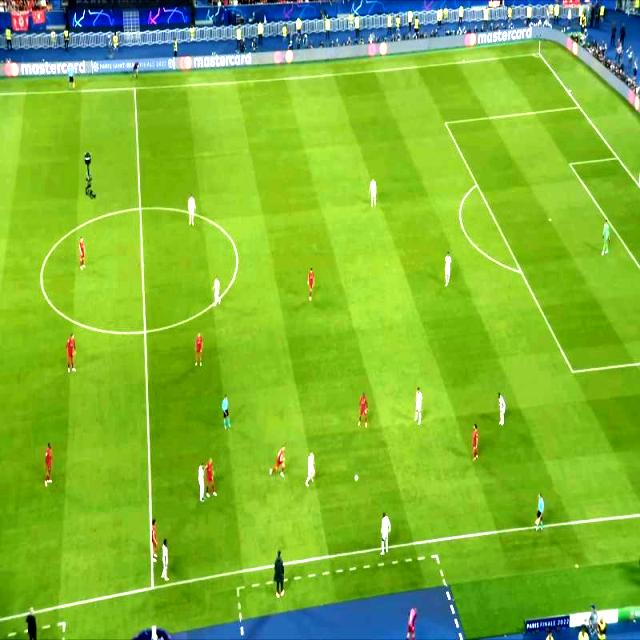bigarea_bottom_inner: (566, 365, 580, 378)
bigarea_top_inner: (439, 117, 452, 129)
bigarea_top_outter: (573, 100, 586, 114)
bottom_arc_area_intersection: (516, 266, 528, 280)
corner: (533, 48, 545, 60)
halfcircle_bottom: (138, 326, 152, 338)
halfcircle_top: (134, 203, 146, 214)
midline_bottom_intersection: (145, 580, 161, 595)
midline_top_intersection: (129, 83, 140, 94)
smallarea_top_inner: (565, 160, 576, 170)
smallarea_top_outter: (613, 153, 625, 165)
top_arc_area_intersection: (471, 180, 483, 190)
